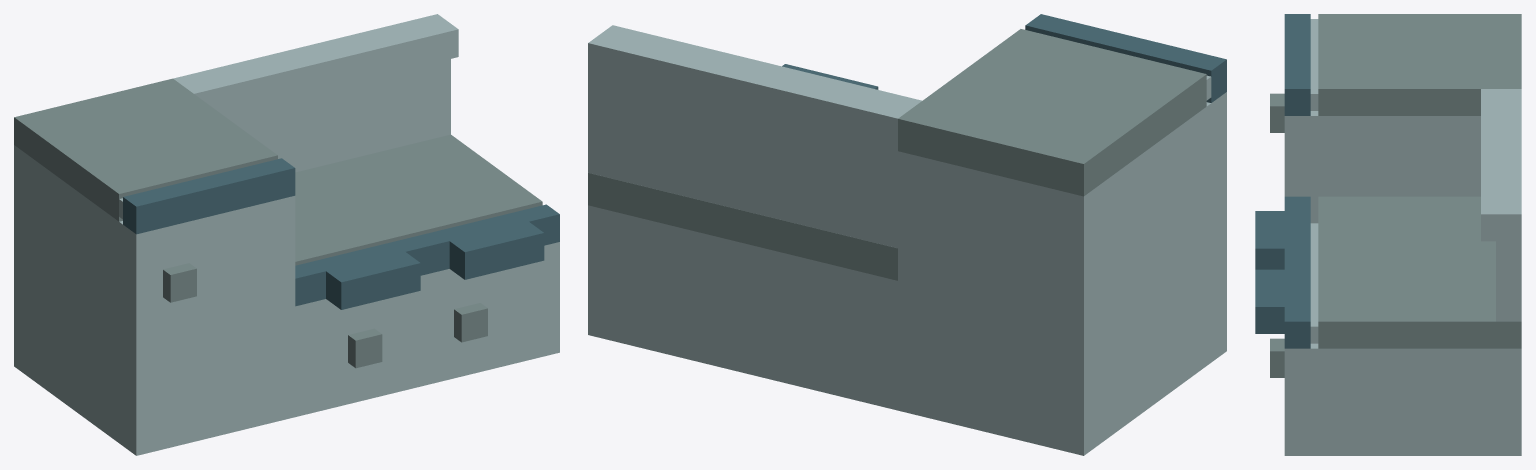
The model's file is FloorBlock-Sink.002.fbx.
The picture shows the model from 3 angles, left to right: view 1: azimuth 30°, elevation 25°; view 2: azimuth 150°, elevation 25°; view 3: azimuth 270°, elevation 25°; orthographic projection. The views are drawn at different scales.
Parts seen in each view (by area): view 1: FloorBlock-Sink.002; view 2: FloorBlock-Sink.002; view 3: FloorBlock-Sink.002.
Part boxes in pixels (bbox=[...]): FloorBlock-Sink.002: bbox=[14, 14, 559, 455]; FloorBlock-Sink.002: bbox=[588, 14, 1226, 455]; FloorBlock-Sink.002: bbox=[1255, 14, 1521, 455].
Bounding box in the file's own units: 1600 × 900 × 900.
